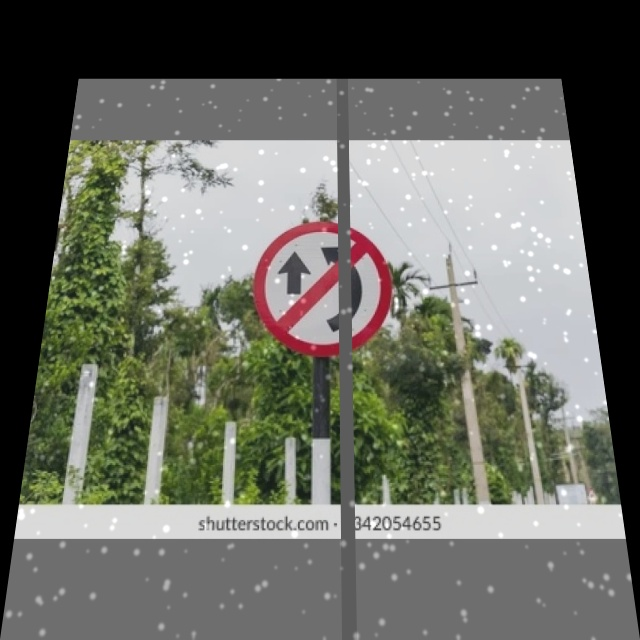Overtaking_Prohibited: (251, 225, 397, 360)
